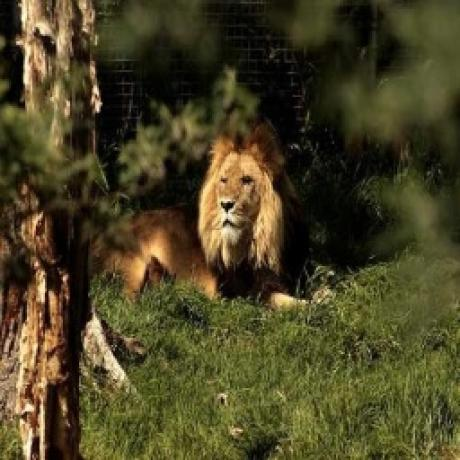Lion: (102, 122, 311, 316)
